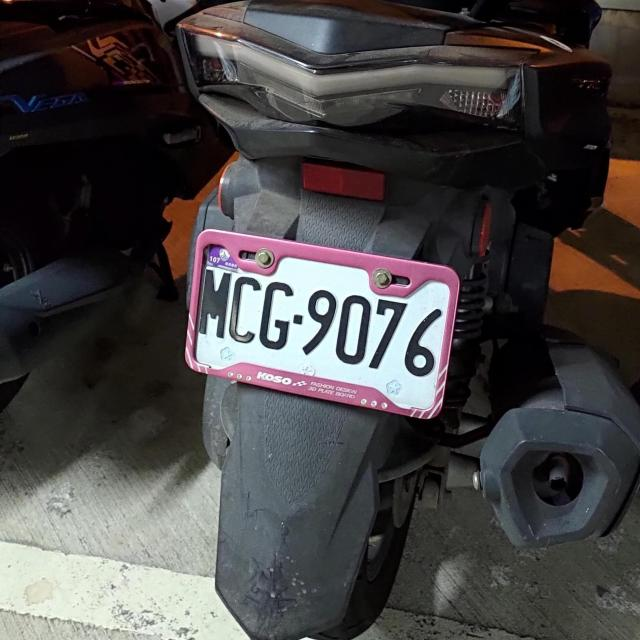W: (178, 228, 462, 415)
